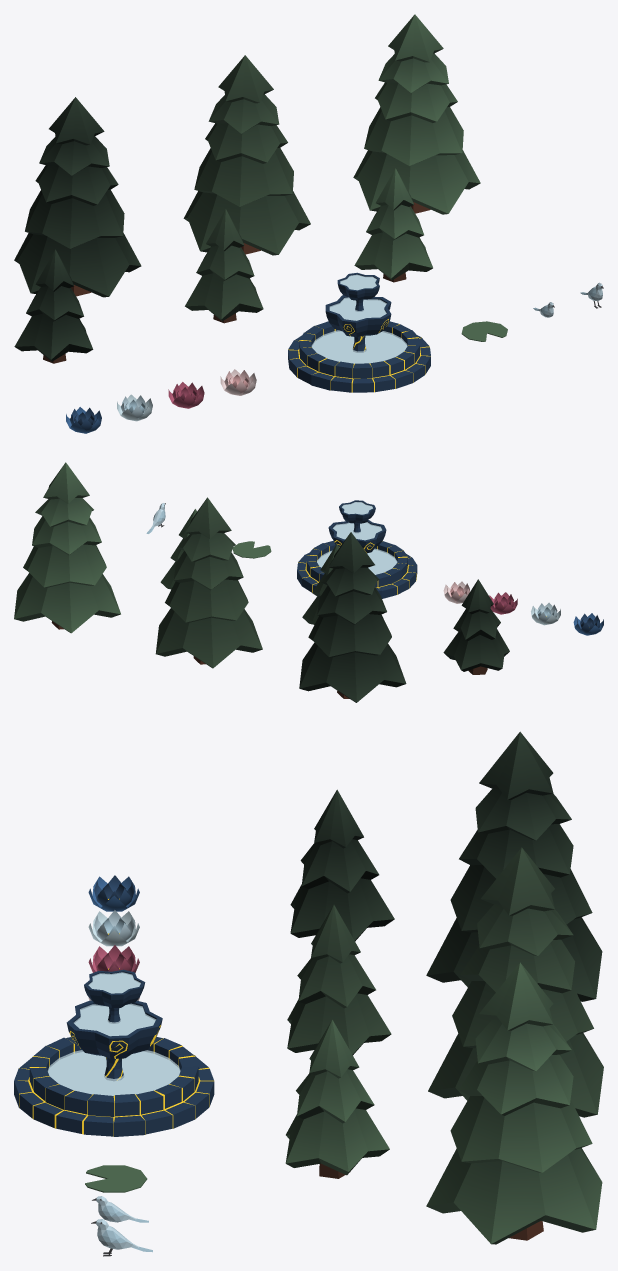
File: fountainAssetDisplay.glb
3 renders of one model, top to bottom at view 1: azimuth 30°, elevation 25°; view 2: azimuth 150°, elevation 25°; view 3: azimuth 270°, elevation 25°, orthographic. The views are drawn at different scales.
Visible parts, largest first — view 1: TreeBigLight, TreeBigMedium, TreeBigDark, FountainPlain, TreeSmallDark, TreeSmallMedium, TreeSmallLight, LilyPadLightPink, LilyPadDarkBlue, LilyPadDarkPink, LilyPadLightBlue, LilyPadLeaf; view 2: TreeBigMedium, TreeBigLight, TreeBigDark, FountainPlain, TreeSmallDark, TreeSmallMedium, TreeSmallLight, LilyPadDarkBlue, LilyPadLightBlue, LilyPadLeaf, LilyPadDarkPink, LilyPadLightPink; view 3: TreeBigLight, FountainPlain, TreeBigDark, TreeBigMedium, TreeSmallLight, TreeSmallDark, TreeSmallMedium, LilyPadLightBlue, LilyPadDarkBlue, LilyPadLeaf, LilyPadDarkPink, BirdWithLegs.
Part boxes in pixels (x1,y1,x2,y2): TreeBigLight: (353, 14, 480, 214); TreeBigMedium: (183, 55, 310, 255); TreeBigDark: (14, 97, 141, 297); FountainPlain: (288, 272, 430, 392); TreeSmallDark: (14, 249, 93, 363); TreeSmallMedium: (185, 209, 263, 323); TreeSmallLight: (354, 168, 432, 282); LilyPadLightPink: (220, 369, 256, 395); LilyPadDarkBlue: (66, 407, 101, 433); LilyPadDarkPink: (168, 382, 204, 408); LilyPadLightBlue: (117, 394, 152, 421); LilyPadLeaf: (461, 321, 507, 341); TreeBigMedium: (155, 497, 262, 668); TreeBigLight: (14, 462, 120, 633); TreeBigDark: (299, 532, 406, 702); FountainPlain: (297, 500, 417, 598); TreeSmallDark: (443, 579, 509, 674); TreeSmallMedium: (302, 544, 339, 624); TreeSmallLight: (160, 509, 196, 589); LilyPadDarkBlue: (573, 613, 603, 635); LilyPadLightBlue: (531, 602, 560, 625); LilyPadLeaf: (232, 541, 271, 558); LilyPadDarkPink: (489, 592, 517, 614); LilyPadLightPink: (443, 581, 469, 603); TreeBigLight: (426, 962, 602, 1244); FountainPlain: (14, 969, 214, 1136); TreeBigDark: (426, 731, 602, 1001); TreeBigMedium: (428, 847, 603, 1117); TreeSmallLight: (285, 1019, 389, 1178); TreeSmallDark: (290, 789, 394, 941); TreeSmallMedium: (287, 905, 391, 1055); LilyPadLightBlue: (88, 910, 139, 946); LilyPadDarkBlue: (88, 875, 139, 911); LilyPadLeaf: (85, 1165, 147, 1192); LilyPadDarkPink: (88, 945, 139, 972); BirdWithLegs: (91, 1219, 152, 1256).
Size of what is drawn, in the model's own units: 12.86 by 4.34 by 8.61.
Materials: 4 (4 with a texture image).
